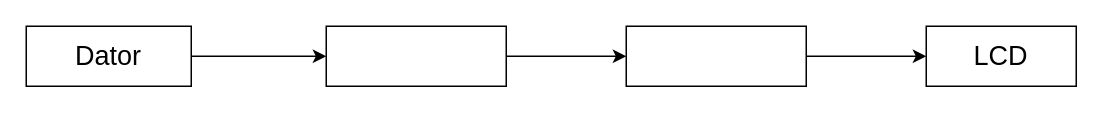
Image size: 1103x113. Some labels were removed from this diagram. Here are the shapes that lost their labels. From the top down, the box of each, then its label:
(325, 25, 506, 86): Arduino
(625, 25, 806, 86): Breadboard
